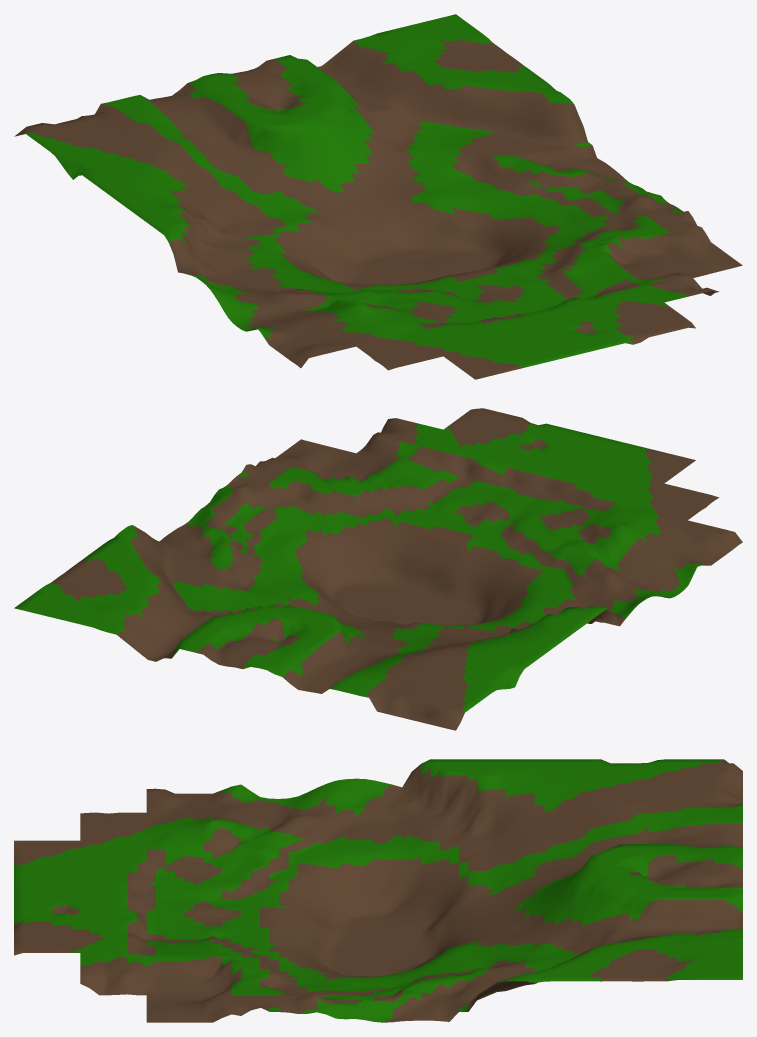
File: VR_map_2_edit.fbx
3 renders of one model, top to bottom at view 1: azimuth 30°, elevation 25°; view 2: azimuth 150°, elevation 25°; view 3: azimuth 270°, elevation 25°, orthographic. The views are drawn at different scales.
Parts seen in each view (by area): view 1: Landscape_0; view 2: Landscape_0; view 3: Landscape_0.
Boxes of the visible parts, <box> form: Landscape_0: <box>14,14,742,379</box>; Landscape_0: <box>14,408,742,730</box>; Landscape_0: <box>14,759,742,1022</box>.
Bounding box in the file's own units: 5600 × 927 × 7700.
